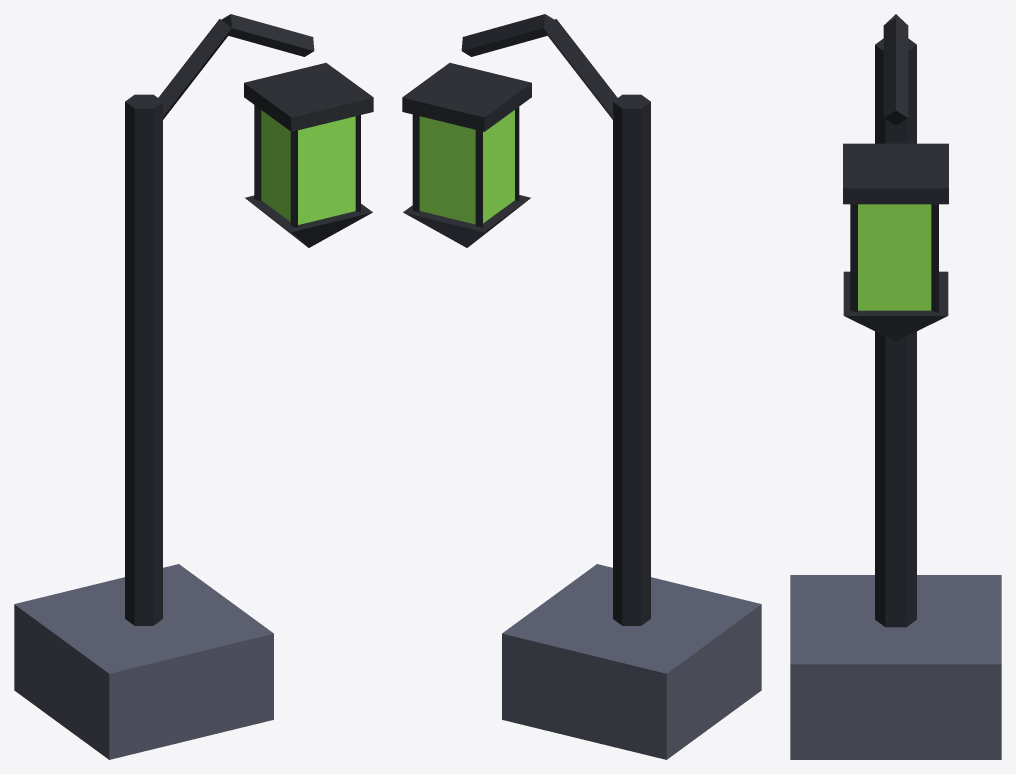
The model's file is GhostLamp.fbx.
The picture shows the model from 3 angles, left to right: view 1: azimuth 30°, elevation 25°; view 2: azimuth 150°, elevation 25°; view 3: azimuth 270°, elevation 25°; orthographic projection. The views are drawn at different scales.
Parts seen in each view (by area): view 1: GhostLamp, GhostLamp_Glow; view 2: GhostLamp, GhostLamp_Glow; view 3: GhostLamp, GhostLamp_Glow.
Boxes of the visible parts, x1,y1,x2,y2 form: GhostLamp: (14,14,373,759); GhostLamp_Glow: (261,110,355,224); GhostLamp: (402,14,761,759); GhostLamp_Glow: (419,110,514,224); GhostLamp: (790,14,1001,759); GhostLamp_Glow: (858,204,931,310).
Bounding box in the file's own units: 210 × 466 × 120.
1 material, 1 textured.
